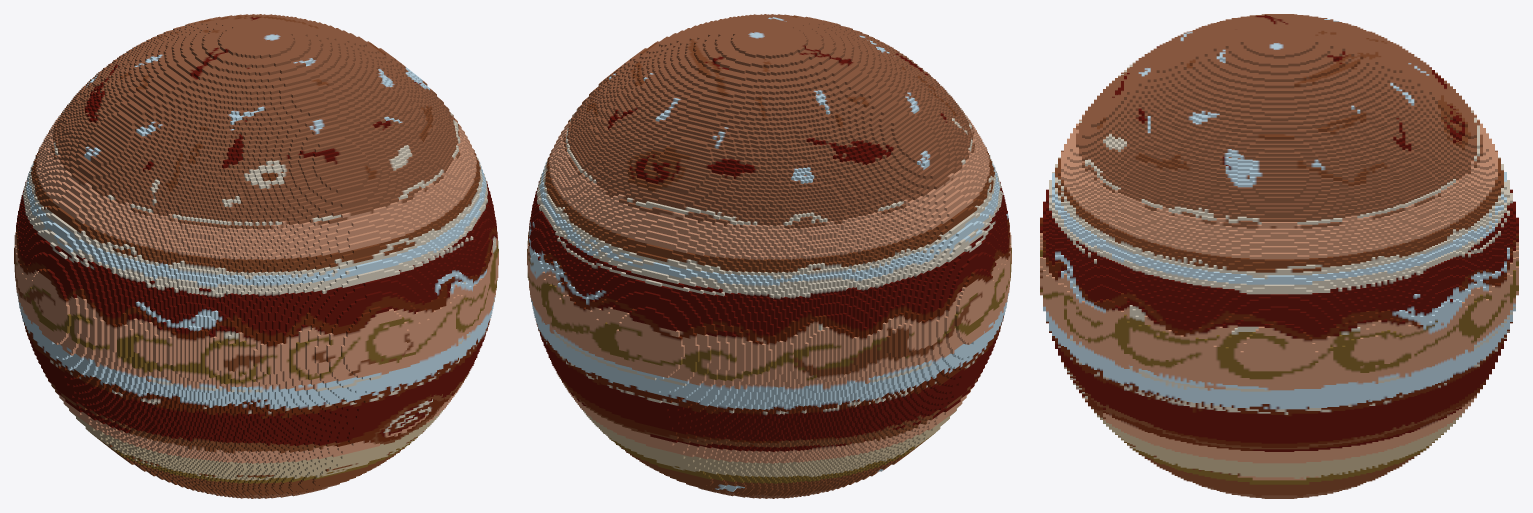
The model's file is Jupiter.fbx.
The picture shows the model from 3 angles, left to right: view 1: azimuth 30°, elevation 25°; view 2: azimuth 150°, elevation 25°; view 3: azimuth 270°, elevation 25°; orthographic projection.
Visible parts, largest first — view 1: Jupiter; view 2: Jupiter; view 3: Jupiter.
Part boxes in pixels (x1,y1,x2,y2): Jupiter: (14,14,498,498); Jupiter: (527,14,1011,498); Jupiter: (1040,14,1518,498).
Bounding box in the file's own units: 160 × 160 × 160.
Materials: 1 (1 with a texture image).
